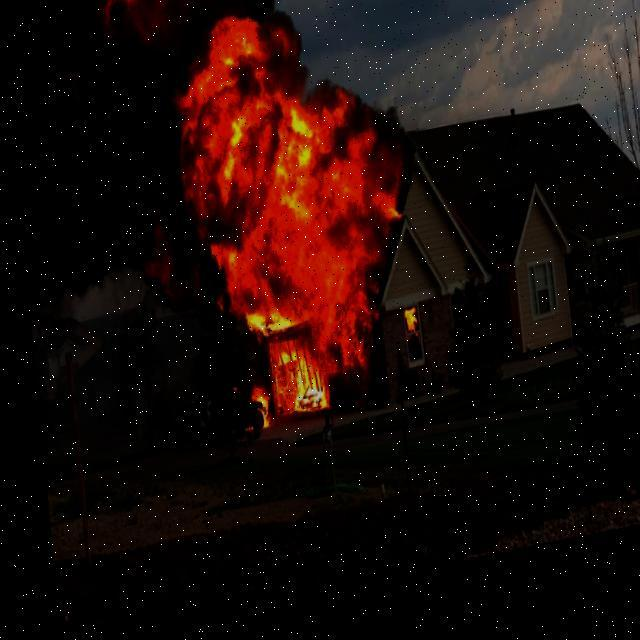Fire: (154, 7, 419, 452)
